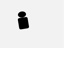human: (15, 8, 31, 31)
